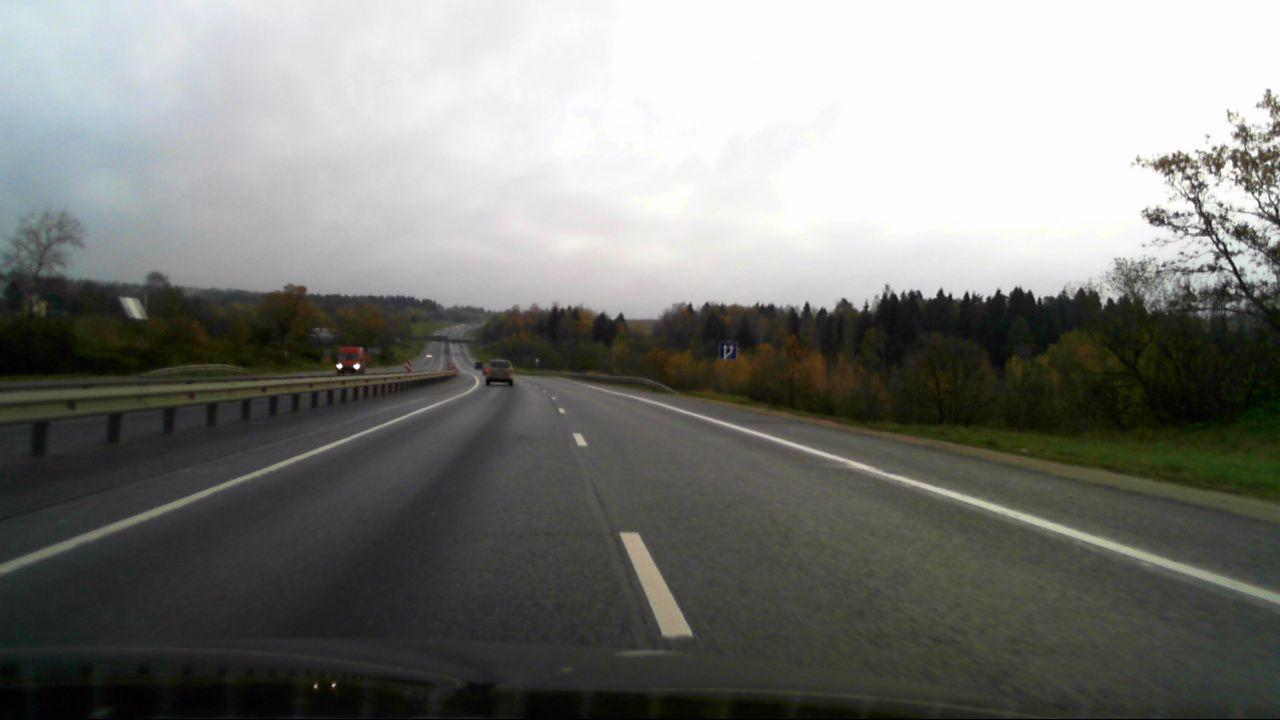5_15_3: (719, 341, 736, 359)
